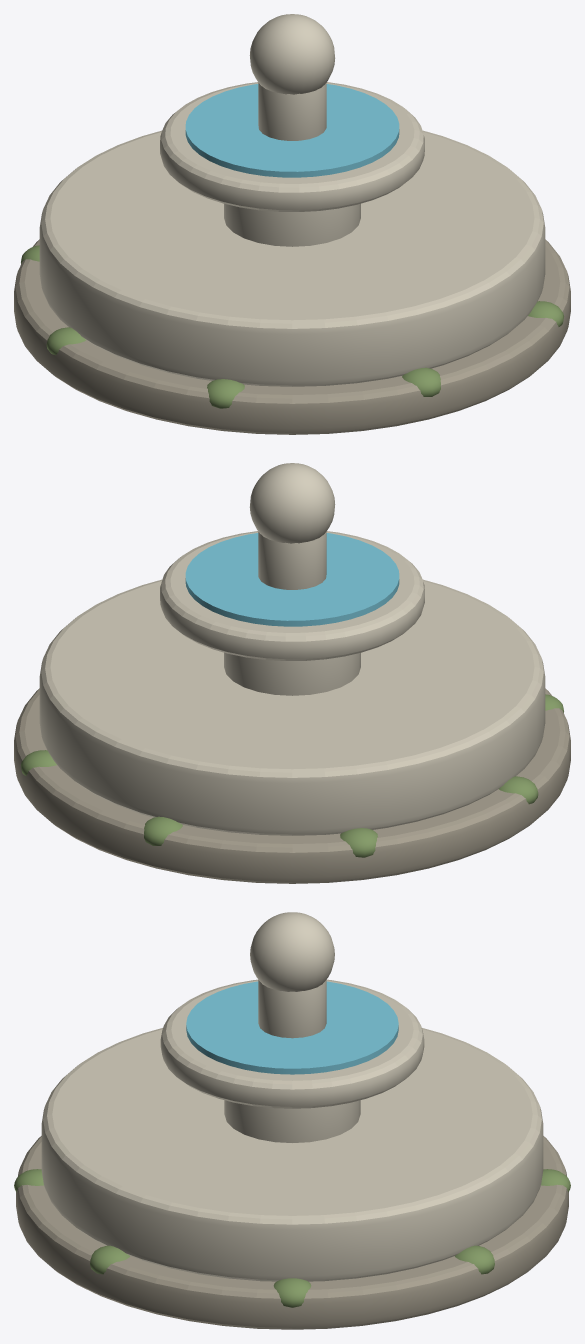
The model's file is fountain.glb.
3 views of the same model, one above another, from view 1: azimuth 30°, elevation 25°; view 2: azimuth 150°, elevation 25°; view 3: azimuth 270°, elevation 25° (orthographic).
Visible parts, largest first — view 1: PROP · fountain basin wall, PROP · fountain base, PROP · fountain upper water, PROP · fountain upper bowl, PROP · fountain finial, PROP · fountain plinth, PROP · fountain upper plinth, PROP · fountain moss 5, PROP · fountain moss 6, PROP · fountain moss 4, PROP · fountain moss 7; view 2: PROP · fountain basin wall, PROP · fountain base, PROP · fountain upper water, PROP · fountain upper bowl, PROP · fountain finial, PROP · fountain plinth, PROP · fountain upper plinth, PROP · fountain moss 3, PROP · fountain moss 2, PROP · fountain moss 4, PROP · fountain moss 1; view 3: PROP · fountain basin wall, PROP · fountain base, PROP · fountain upper water, PROP · fountain upper bowl, PROP · fountain finial, PROP · fountain plinth, PROP · fountain upper plinth, PROP · fountain moss 0, PROP · fountain moss 1, PROP · fountain moss 7.
Boxes of the visible parts, box(x1,y1,x2,y2) form: PROP · fountain basin wall: box(39, 130, 545, 386); PROP · fountain base: box(14, 239, 570, 434); PROP · fountain upper water: box(185, 84, 399, 177); PROP · fountain upper bowl: box(160, 82, 424, 211); PROP · fountain finial: box(249, 14, 335, 94); PROP · fountain plinth: box(224, 203, 360, 246); PROP · fountain upper plinth: box(258, 82, 326, 140); PROP · fountain moss 5: box(207, 379, 244, 408); PROP · fountain moss 6: box(402, 367, 440, 396); PROP · fountain moss 4: box(46, 327, 85, 355); PROP · fountain moss 7: box(528, 301, 563, 326); PROP · fountain basin wall: box(39, 579, 545, 835); PROP · fountain base: box(14, 688, 570, 883); PROP · fountain upper water: box(185, 533, 399, 626); PROP · fountain upper bowl: box(160, 531, 424, 660); PROP · fountain finial: box(249, 463, 335, 543); PROP · fountain plinth: box(224, 652, 360, 695); PROP · fountain upper plinth: box(258, 531, 326, 589); PROP · fountain moss 3: box(340, 828, 377, 857); PROP · fountain moss 2: box(144, 816, 182, 845); PROP · fountain moss 4: box(499, 776, 538, 804); PROP · fountain moss 1: box(21, 750, 56, 775); PROP · fountain basin wall: box(41, 1028, 543, 1281); PROP · fountain base: box(16, 1136, 568, 1329); PROP · fountain upper water: box(186, 981, 398, 1074); PROP · fountain upper bowl: box(160, 979, 424, 1108); PROP · fountain finial: box(250, 912, 334, 991); PROP · fountain plinth: box(224, 1100, 360, 1142); PROP · fountain upper plinth: box(258, 980, 326, 1038); PROP · fountain moss 0: box(273, 1278, 311, 1307); PROP · fountain moss 1: box(455, 1245, 494, 1274); PROP · fountain moss 7: box(90, 1245, 129, 1274).
Size of the model in its own units: 2.62 by 1.56 by 2.62.
